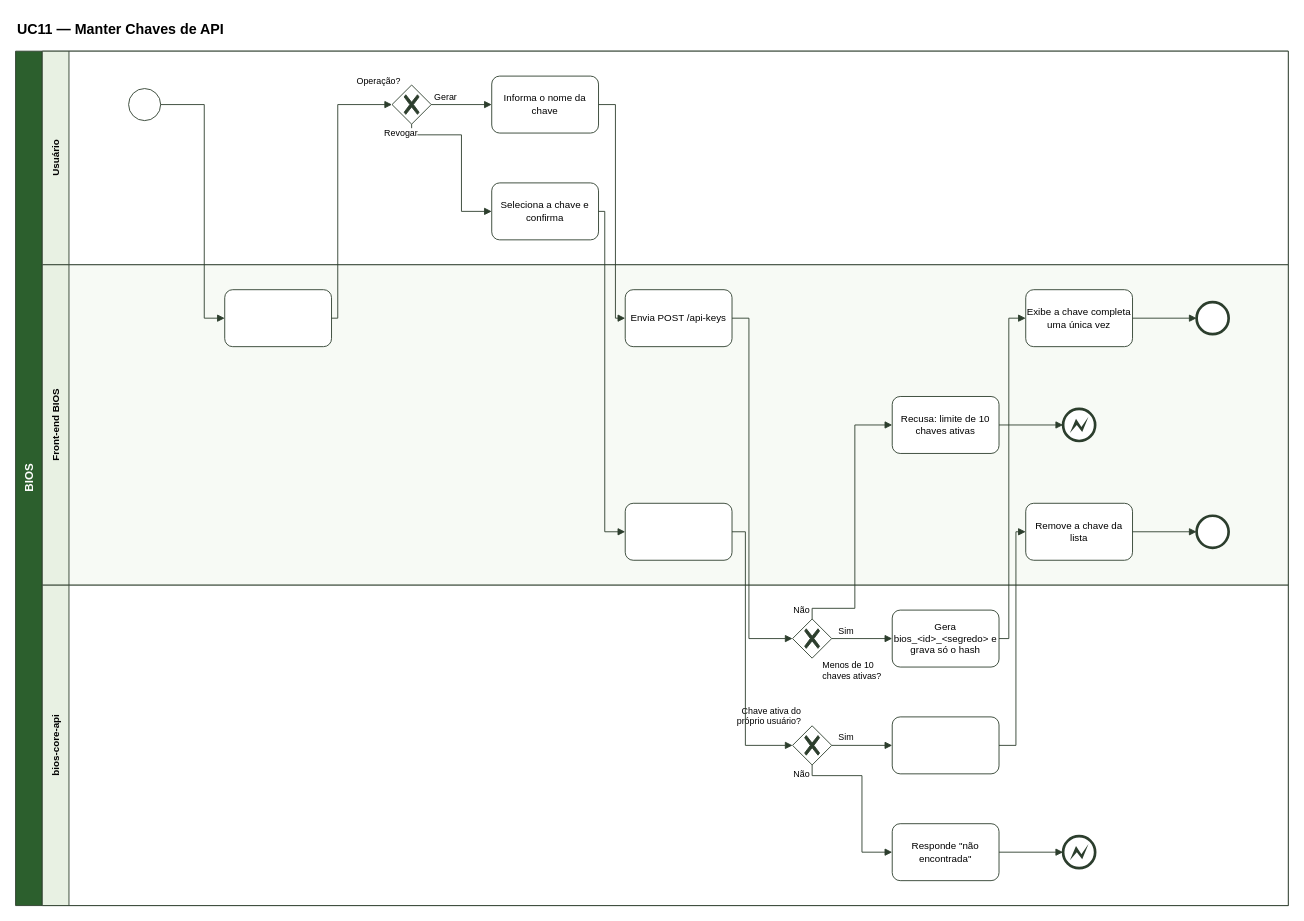
The diagram is 1304 pixels wide and 921 high, and some of its shapes have lost their labels. Here are the shapes that lost their labels. From the top down, the centre of each, then its label:
At (144,104): "Abre o painel de chaves".
At (278,318): "GET /api-keys: nome, prefixo e datas".
At (1212,317): "Chave ativa".
At (1078,424): "Limite atingido".
At (678,531): "Envia DELETE /api-keys/{id}".
At (1212,531): "Chave revogada".
At (945,745): "Grava revoked_at; vale na hora".
At (1078,851): "Nada revogado".
